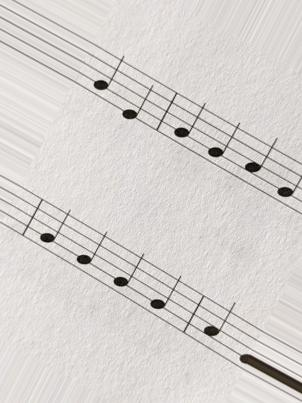note: (242, 129, 280, 201), (172, 90, 208, 163), (204, 296, 239, 369), (145, 263, 182, 332), (205, 112, 240, 180), (75, 217, 107, 290), (120, 63, 154, 131), (112, 241, 146, 309), (40, 199, 73, 268), (92, 43, 124, 112), (272, 149, 301, 214)
